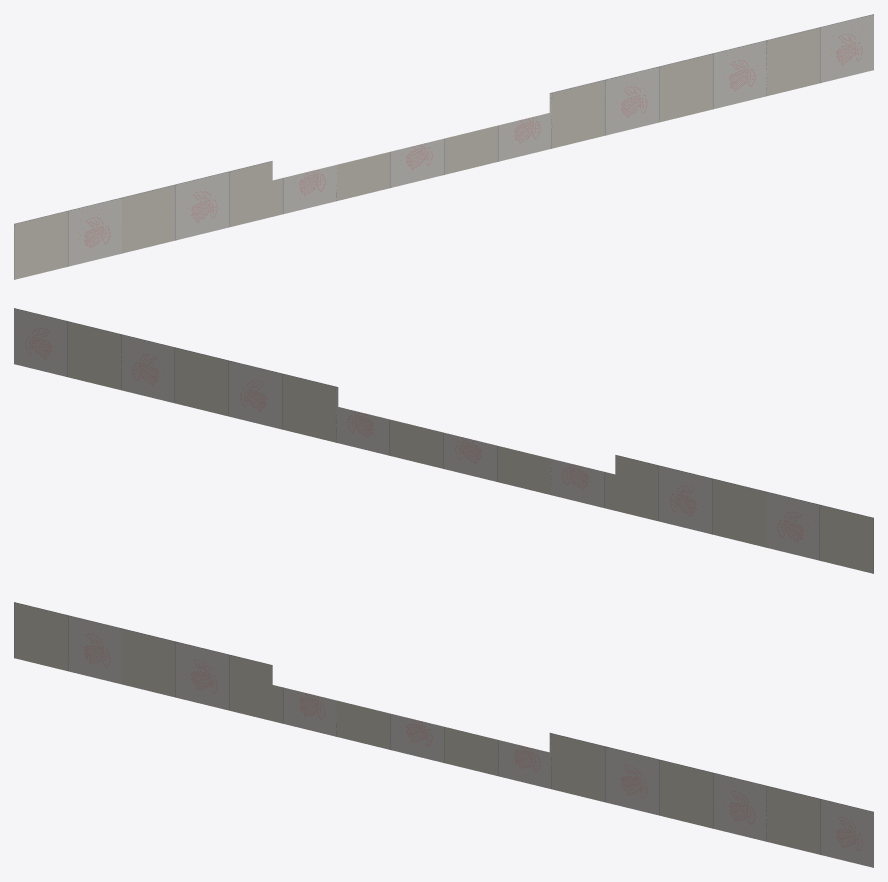
Rendered from kd_stage_135ded_4_110_exterior_piece_1.glb.
The picture shows the model from 3 angles, top to bottom: view 1: azimuth 30°, elevation 25°; view 2: azimuth 150°, elevation 25°; view 3: azimuth 330°, elevation 25°; orthographic projection.
Parts seen in each view (by area): view 1: kd_stage_135ded_4_110_exterior_piece_1; view 2: kd_stage_135ded_4_110_exterior_piece_1; view 3: kd_stage_135ded_4_110_exterior_piece_1.
Part boxes in pixels (bbox=[...]): kd_stage_135ded_4_110_exterior_piece_1: bbox=[14, 14, 873, 279]; kd_stage_135ded_4_110_exterior_piece_1: bbox=[14, 308, 873, 573]; kd_stage_135ded_4_110_exterior_piece_1: bbox=[14, 602, 873, 867].
Size of the model in its own units: 3.19 by 0.1988 by 0.
1 material, 1 textured.
